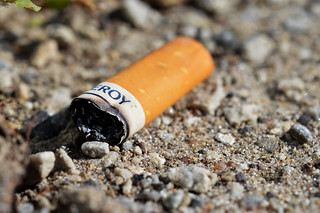cigarette: (65, 33, 218, 149)
